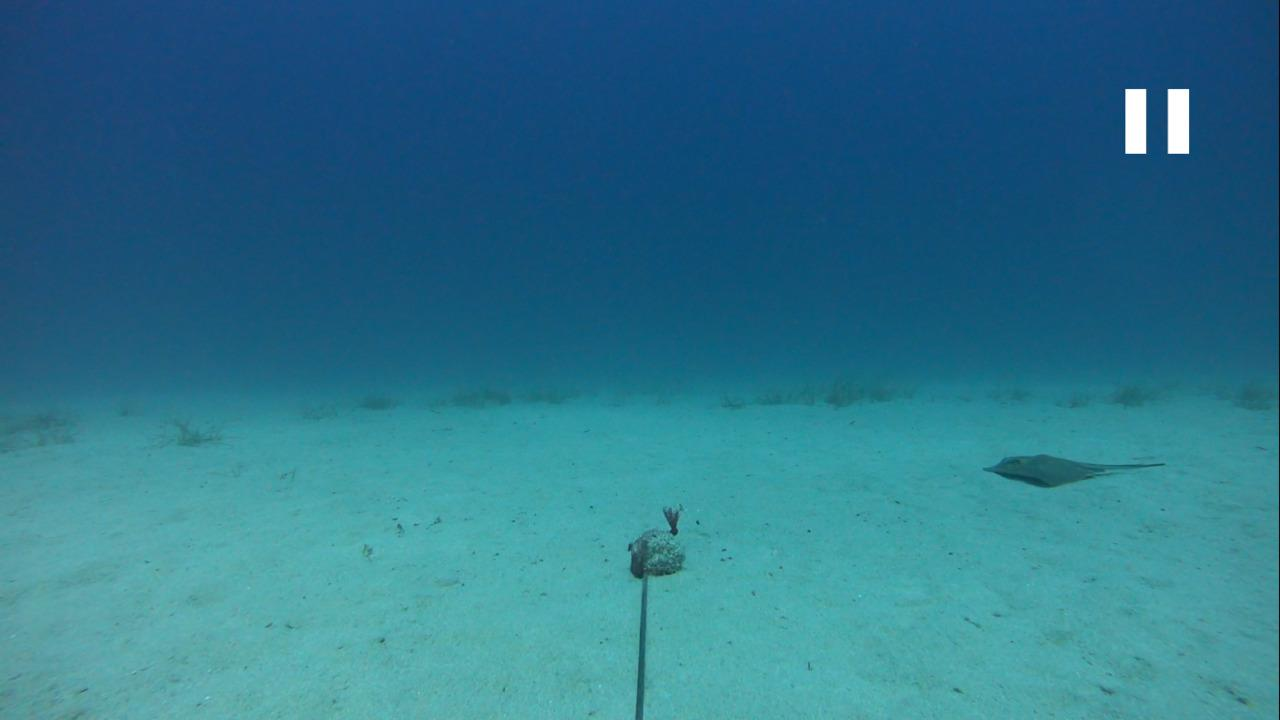myliobatis: (979, 450, 1169, 485)
